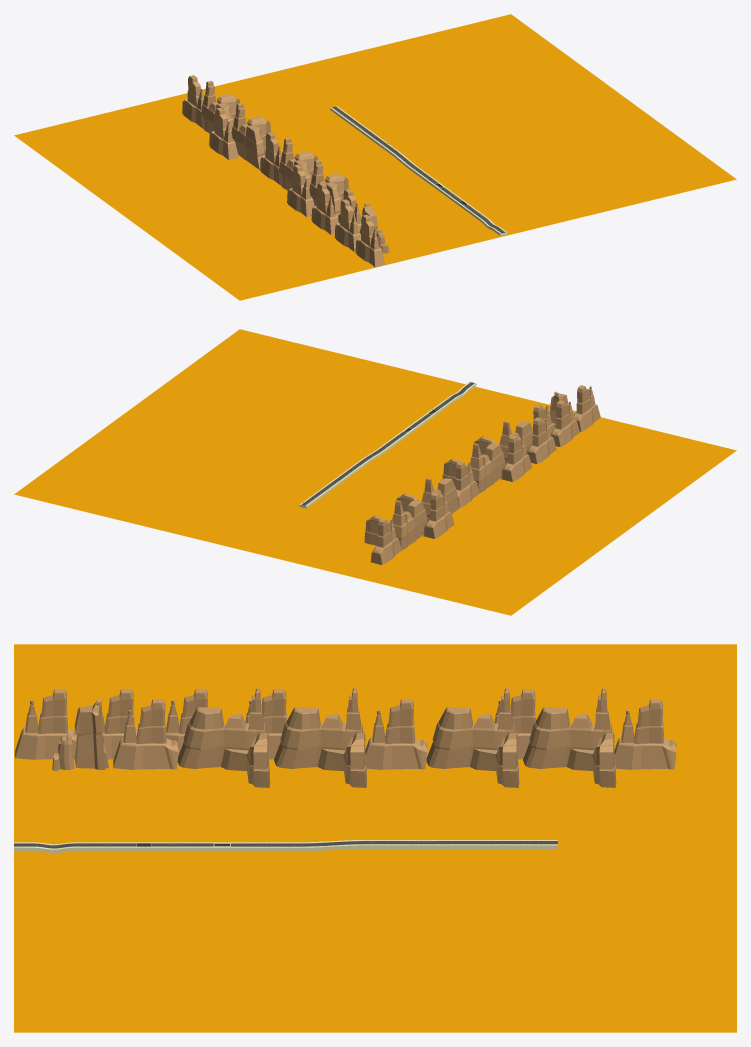
The model's file is envi1 (3).fbx.
The picture shows the model from 3 angles, top to bottom: view 1: azimuth 30°, elevation 25°; view 2: azimuth 150°, elevation 25°; view 3: azimuth 270°, elevation 25°; orthographic projection. The views are drawn at different scales.
Parts seen in each view (by area): view 1: Plane, Cube, defaultMaterial.004, defaultMaterial.003, defaultMaterial.024, defaultMaterial.021, defaultMaterial.002, defaultMaterial.027, defaultMaterial.028, defaultMaterial.029, defaultMaterial.026, defaultMaterial.001 (+1 smaller); view 2: Plane, Cube, defaultMaterial.003, defaultMaterial.024, defaultMaterial.004, defaultMaterial.028, defaultMaterial.002, defaultMaterial.001, defaultMaterial.029, defaultMaterial.026, defaultMaterial.021, defaultMaterial.027 (+1 smaller); view 3: Plane, defaultMaterial.024, defaultMaterial.003, defaultMaterial.021, defaultMaterial.004, Cube, defaultMaterial.023, defaultMaterial.030, defaultMaterial.001, defaultMaterial.027, defaultMaterial.025, defaultMaterial.026 (+3 smaller).
Boxes of the visible parts, bbox=[...] form: Plane: bbox=[14, 14, 736, 300]; Cube: bbox=[330, 106, 507, 235]; defaultMaterial.004: bbox=[231, 103, 270, 169]; defaultMaterial.003: bbox=[201, 80, 240, 133]; defaultMaterial.024: bbox=[278, 137, 317, 190]; defaultMaterial.021: bbox=[309, 160, 348, 218]; defaultMaterial.002: bbox=[209, 107, 238, 160]; defaultMaterial.027: bbox=[355, 214, 385, 267]; defaultMaterial.028: bbox=[287, 164, 314, 216]; defaultMaterial.029: bbox=[311, 182, 338, 234]; defaultMaterial.026: bbox=[334, 199, 360, 251]; defaultMaterial.001: bbox=[182, 75, 203, 127]; Plane: bbox=[14, 329, 736, 615]; Cube: bbox=[299, 382, 476, 508]; defaultMaterial.003: bbox=[364, 500, 427, 550]; defaultMaterial.024: bbox=[442, 443, 505, 493]; defaultMaterial.004: bbox=[396, 478, 459, 521]; defaultMaterial.028: bbox=[501, 435, 532, 481]; defaultMaterial.002: bbox=[423, 492, 454, 538]; defaultMaterial.001: bbox=[370, 518, 401, 564]; defaultMaterial.029: bbox=[526, 417, 556, 463]; defaultMaterial.026: bbox=[551, 400, 579, 446]; defaultMaterial.021: bbox=[474, 421, 533, 464]; defaultMaterial.027: bbox=[574, 385, 600, 431]; Plane: bbox=[14, 644, 736, 1032]; defaultMaterial.024: bbox=[274, 688, 366, 787]; defaultMaterial.003: bbox=[523, 688, 616, 787]; defaultMaterial.021: bbox=[177, 688, 270, 787]; defaultMaterial.004: bbox=[426, 688, 519, 787]; Cube: bbox=[14, 840, 557, 853]; defaultMaterial.023: bbox=[113, 699, 178, 769]; defaultMaterial.030: bbox=[365, 699, 427, 769]; defaultMaterial.001: bbox=[614, 699, 676, 769]; defaultMaterial.027: bbox=[15, 689, 76, 759]; defaultMaterial.025: bbox=[52, 699, 108, 770]; defaultMaterial.026: bbox=[96, 689, 137, 759].
Bounding box in the file's own units: 47154 × 4324 × 37109.
Materials: 3 (3 with a texture image).
